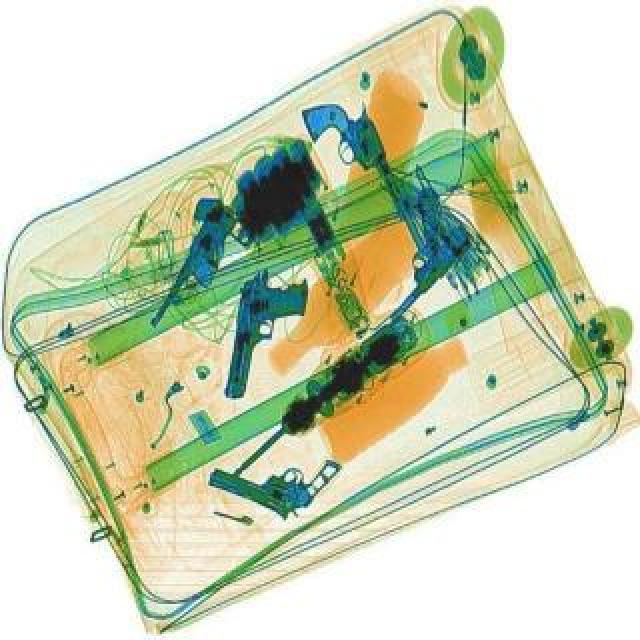gun: (296, 88, 432, 280), (340, 184, 486, 322), (146, 198, 262, 342), (202, 420, 342, 530), (222, 264, 312, 404)
